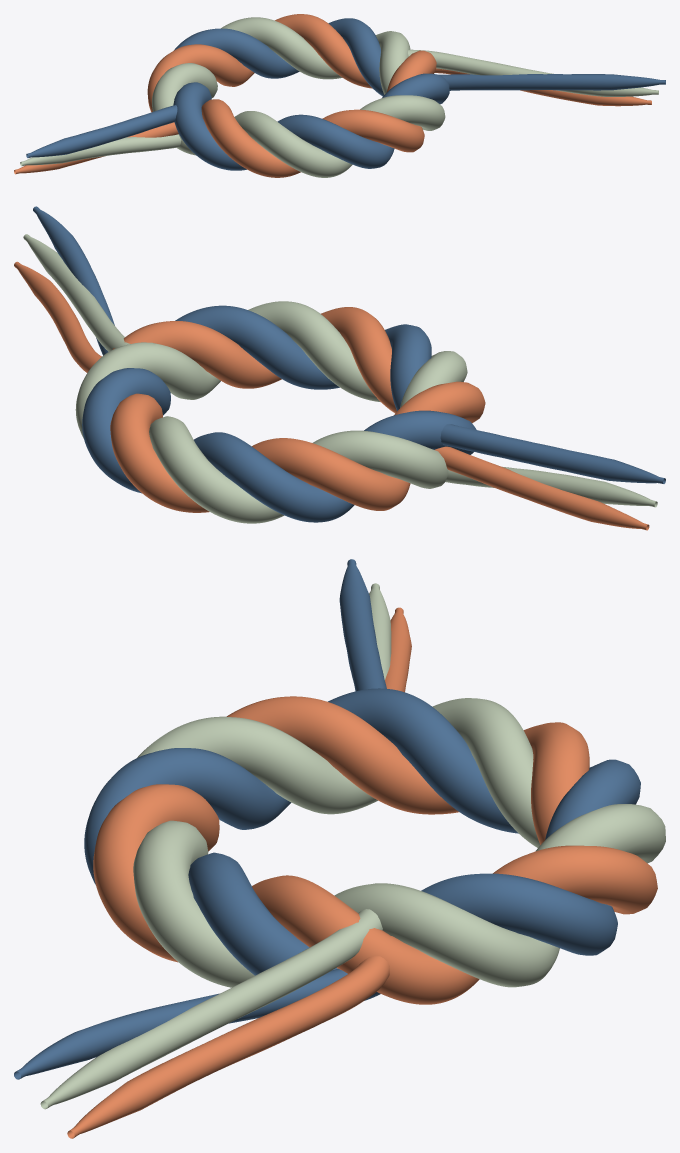
Rendered from radius-3d-braided-thread.glb.
The picture shows the model from 3 angles, top to bottom: view 1: azimuth 30°, elevation 25°; view 2: azimuth 150°, elevation 25°; view 3: azimuth 270°, elevation 25°; orthographic projection. The views are drawn at different scales.
Parts seen in each view (by area): view 1: Indigo thread, Sage thread, Terracotta thread; view 2: Terracotta thread, Indigo thread, Sage thread; view 3: Sage thread, Terracotta thread, Indigo thread.
Boxes of the visible parts, box(x1,y1,x2,y2) form: Indigo thread: box(26, 18, 665, 170); Sage thread: box(20, 17, 658, 177); Terracotta thread: box(14, 14, 651, 177); Terracotta thread: box(14, 261, 649, 530); Indigo thread: box(33, 206, 665, 522); Sage thread: box(23, 234, 657, 523); Sage thread: box(40, 583, 665, 1109); Terracotta thread: box(67, 607, 657, 1138); Indigo thread: box(14, 559, 640, 1079).
Size of the model in its own units: 8.27 by 0.8348 by 4.39.
